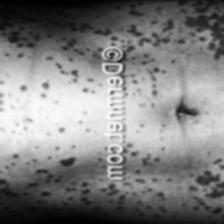Non-Cancerous Skin Condition: (0, 19, 96, 197), (146, 0, 224, 88), (155, 130, 224, 224)
